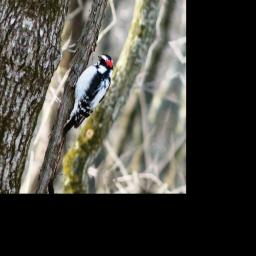Woodpecker: (56, 44, 119, 151)
